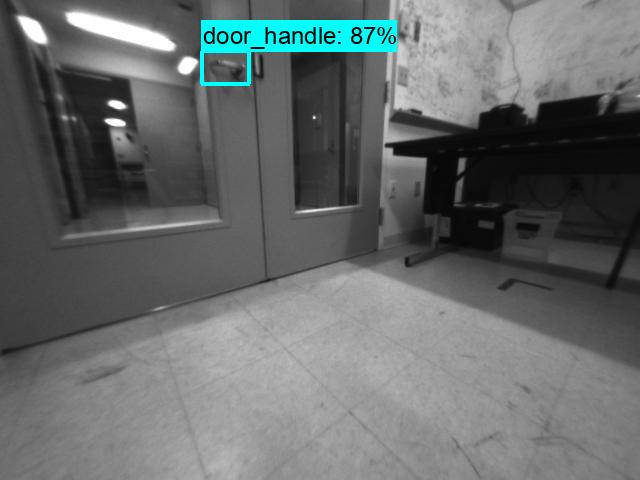door_handle: (201, 54, 248, 84)
